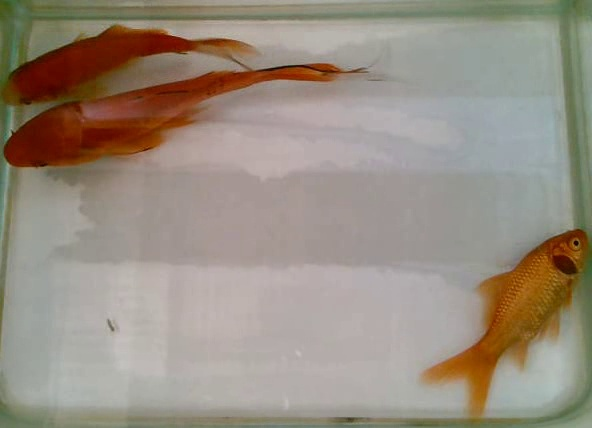alive_fish: (3, 42, 405, 173), (2, 19, 269, 111)
dead_fish: (416, 222, 592, 424)
